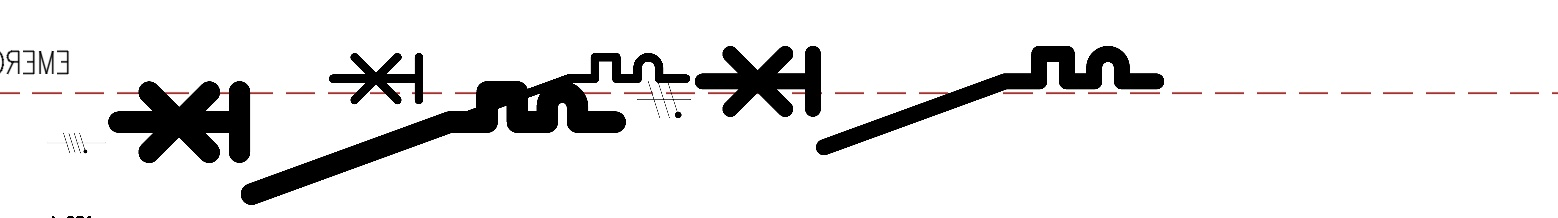interruptor_termomagnetico: (106, 79, 628, 206), (690, 42, 1167, 159), (324, 48, 695, 139)
